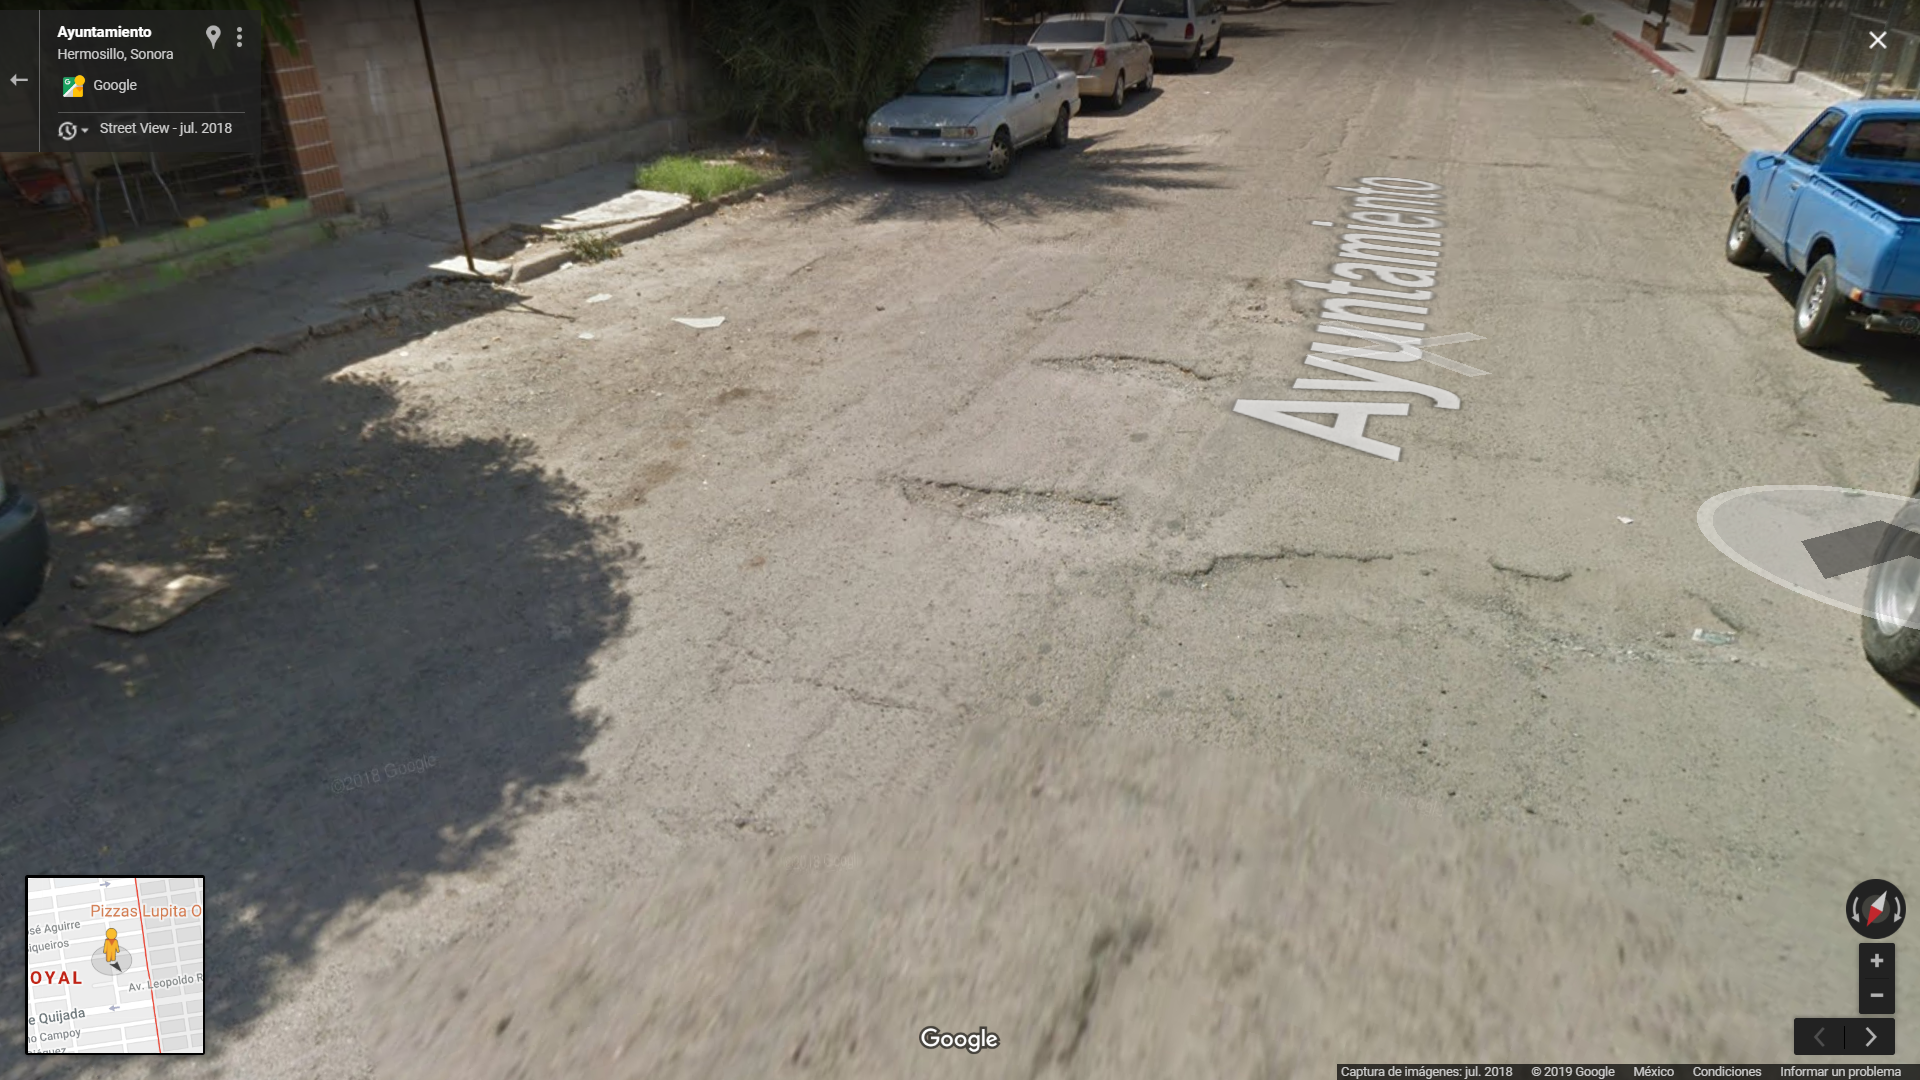pothole: (1189, 549, 1730, 654), (893, 444, 1138, 541), (1029, 334, 1218, 407)
